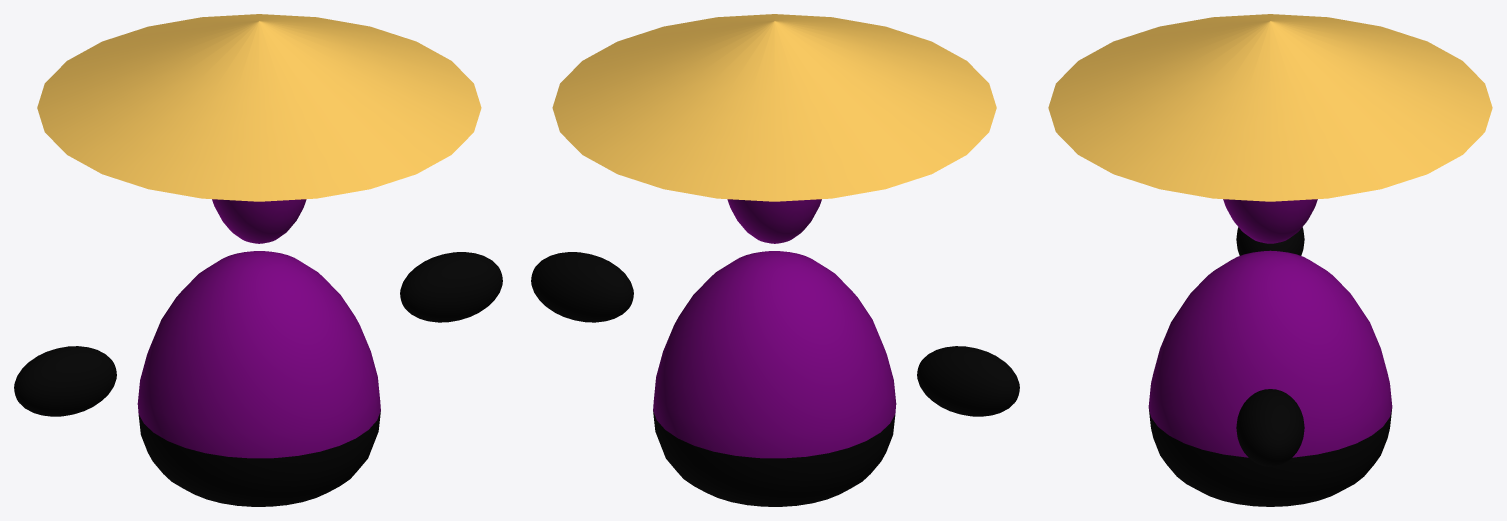
Rendered from Evil Twin.FBX.
The picture shows the model from 3 angles, left to right: view 1: azimuth 30°, elevation 25°; view 2: azimuth 150°, elevation 25°; view 3: azimuth 270°, elevation 25°; orthographic projection.
Parts seen in each view (by area): view 1: Cone001; view 2: Cone001; view 3: Cone001.
Boxes of the visible parts, bbox=[...] form: Cone001: bbox=[14, 14, 502, 506]; Cone001: bbox=[531, 14, 1019, 506]; Cone001: bbox=[1048, 14, 1492, 506].
Size of the model in its own units: 231 by 211 by 184.
